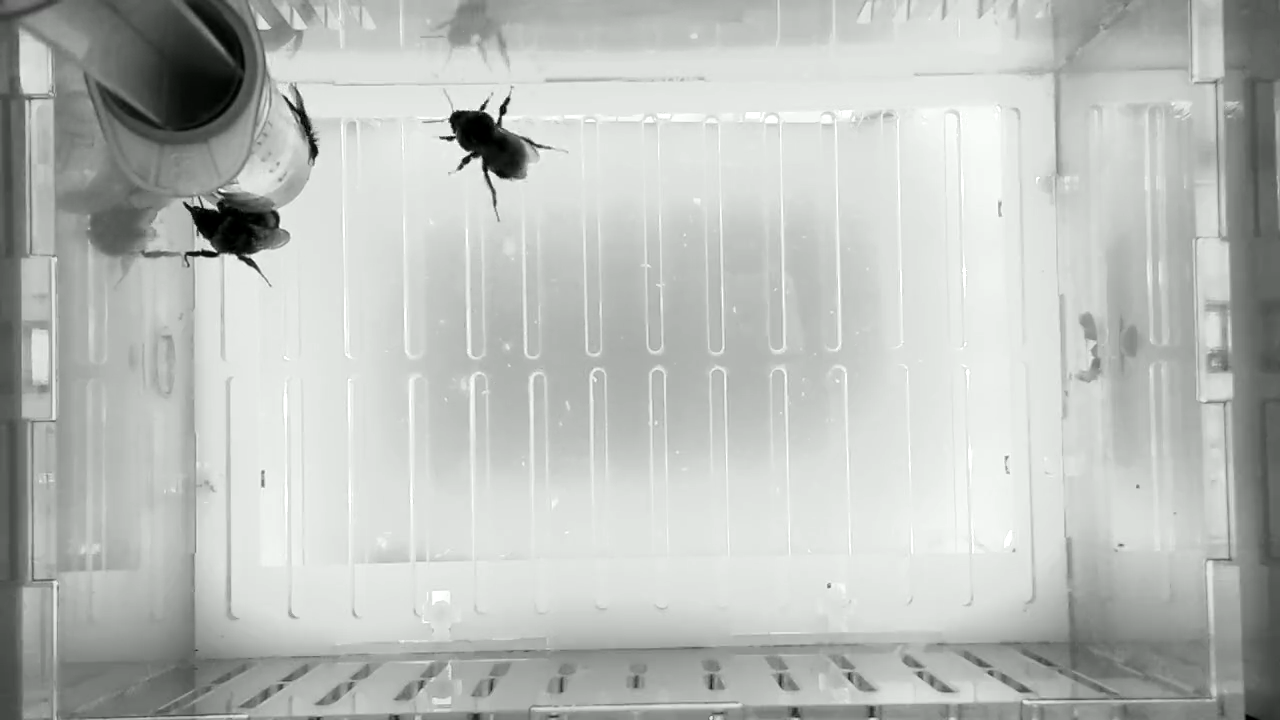bee_alive: (413, 81, 578, 228), (172, 199, 301, 290), (273, 77, 326, 168)
feeder: (188, 67, 315, 212)
